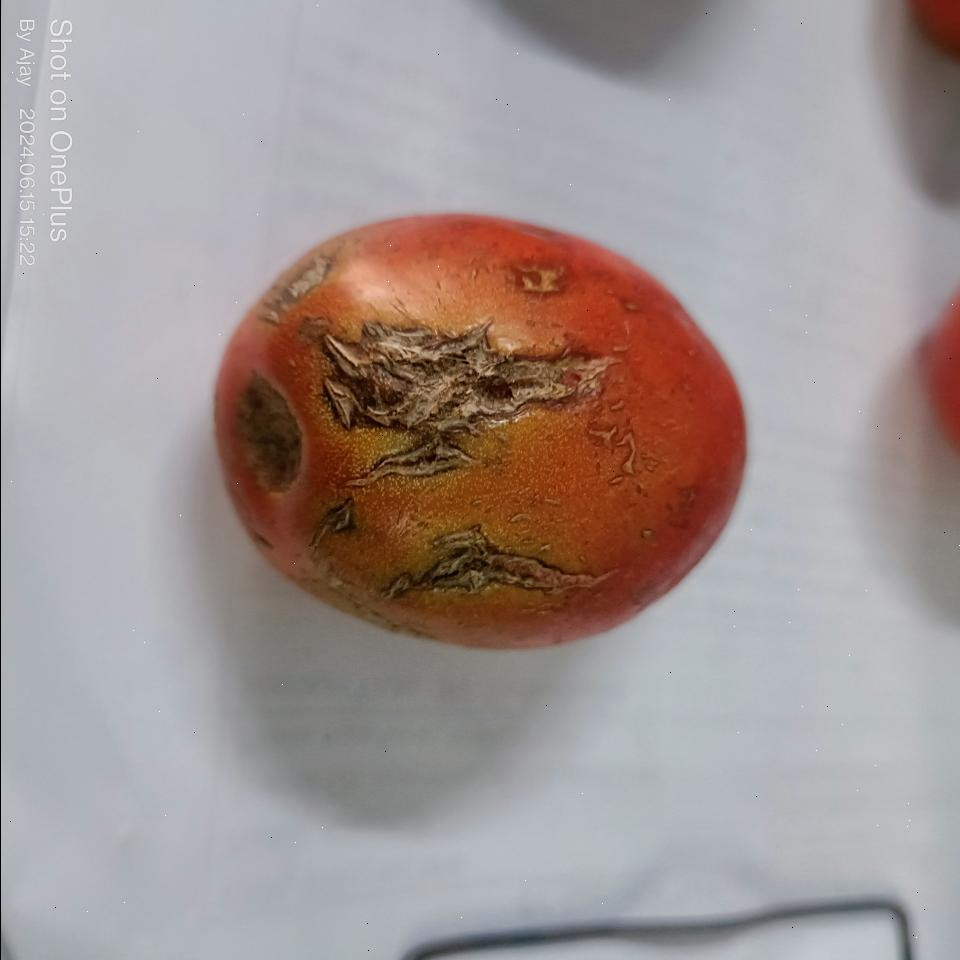Cracking: (300, 309, 627, 487), (485, 242, 592, 308)
